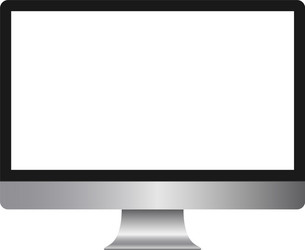Ordinateur: (19, 77, 129, 161)
